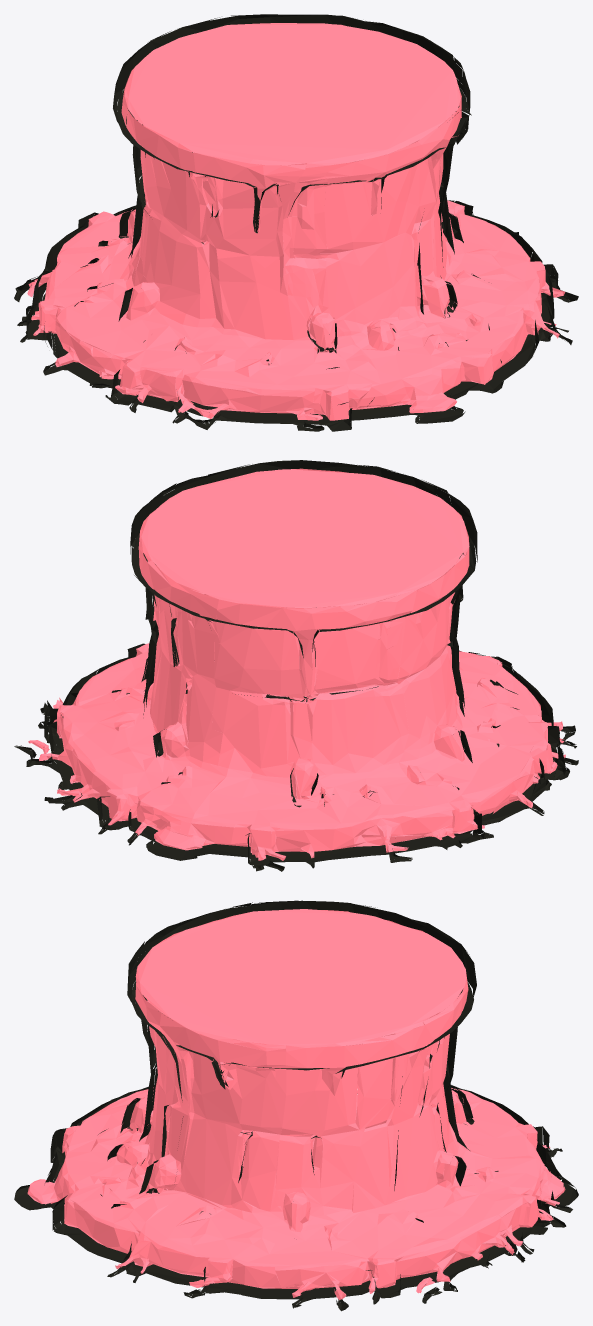
File: df_v2_corrupted_altar_e_a.glb
3 views of the same model, one above another, from view 1: azimuth 30°, elevation 25°; view 2: azimuth 150°, elevation 25°; view 3: azimuth 270°, elevation 25° (orthographic). The views are drawn at different scales.
Parts seen in each view (by area): view 1: corrupted_altar_e_mesh_01, corrupted_altar_e_mesh_01_ink_outline; view 2: corrupted_altar_e_mesh_01, corrupted_altar_e_mesh_01_ink_outline; view 3: corrupted_altar_e_mesh_01, corrupted_altar_e_mesh_01_ink_outline.
Part boxes in pixels (box(x1,y1,x2,y2)): corrupted_altar_e_mesh_01: box(27, 23, 565, 420); corrupted_altar_e_mesh_01_ink_outline: box(14, 14, 578, 431); corrupted_altar_e_mesh_01: box(28, 468, 565, 860); corrupted_altar_e_mesh_01_ink_outline: box(14, 460, 578, 871); corrupted_altar_e_mesh_01: box(27, 909, 565, 1299); corrupted_altar_e_mesh_01_ink_outline: box(14, 900, 578, 1311).
Size of the model in its own units: 1.45 by 0.6502 by 1.48.
